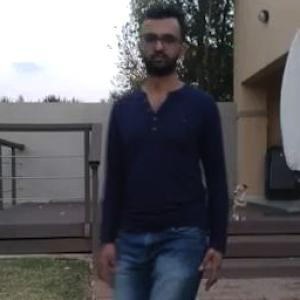follow: (90, 44, 197, 299)
